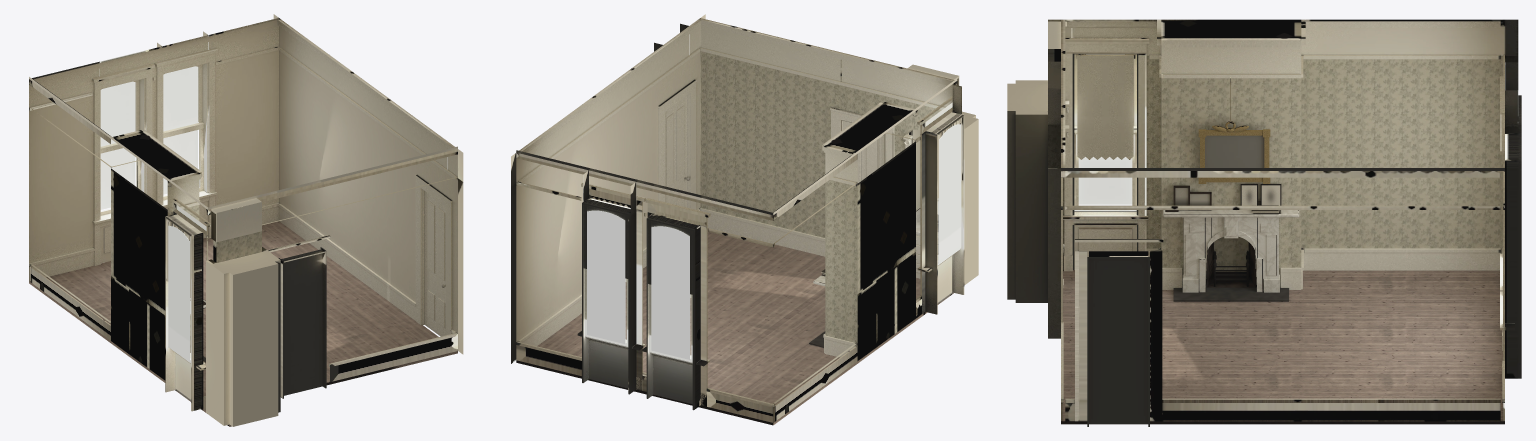
The model's file is muir-martinez-study.glb.
3 renders of one model, left to right at view 1: azimuth 30°, elevation 25°; view 2: azimuth 150°, elevation 25°; view 3: azimuth 270°, elevation 25°, orthographic. The views are drawn at different scales.
Parts seen in each view (by area): view 1: wall_east, wall_north, mouldings, artifact_washstand_alcove, chimney_breast, floor, artifact_north_windows, artifact_door_south, door_east, artifact_west_window, daylight_north_window_0, daylight_north_window_1 (+3 smaller); view 2: wall_south, wall_east, floor, chimney_breast, mouldings, artifact_north_windows, artifact_west_window, daylight_north_window_0, daylight_north_window_1, door_east, artifact_washstand_alcove, daylight_west_window (+2 smaller); view 3: wall_west, floor, mouldings, chimney_breast, door_east, artifact_washstand_alcove, artifact_west_window, artifact_west_window_shade, artifact_fireplace, artifact_north_windows, artifact_overmantel_mirror, artifact_door_south (+8 smaller).
Boxes of the visible parts, bbox=[...] form: wall_east: bbox=[273, 14, 463, 354]; wall_north: bbox=[29, 18, 278, 263]; mouldings: bbox=[29, 19, 457, 381]; artifact_washstand_alcove: bbox=[206, 247, 280, 426]; chimney_breast: bbox=[111, 131, 199, 380]; floor: bbox=[29, 221, 457, 426]; artifact_north_windows: bbox=[92, 48, 217, 265]; artifact_door_south: bbox=[267, 235, 330, 398]; door_east: bbox=[414, 174, 452, 336]; artifact_west_window: bbox=[165, 198, 210, 411]; daylight_north_window_0: bbox=[100, 81, 135, 209]; daylight_north_window_1: bbox=[163, 66, 197, 194]; wall_south: bbox=[700, 25, 959, 237]; wall_east: bbox=[511, 14, 705, 363]; floor: bbox=[516, 228, 953, 425]; chimney_breast: bbox=[825, 103, 915, 360]; mouldings: bbox=[516, 18, 957, 422]; artifact_north_windows: bbox=[577, 182, 710, 410]; artifact_west_window: bbox=[917, 96, 964, 314]; daylight_north_window_0: bbox=[651, 226, 690, 359]; daylight_north_window_1: bbox=[587, 210, 625, 344]; door_east: bbox=[658, 79, 696, 209]; artifact_washstand_alcove: bbox=[903, 111, 978, 285]; daylight_west_window: bbox=[938, 124, 961, 263]; wall_west: bbox=[1048, 19, 1518, 269]; floor: bbox=[1061, 270, 1504, 424]; mouldings: bbox=[1061, 19, 1504, 421]; chimney_breast: bbox=[1161, 19, 1301, 287]; door_east: bbox=[1074, 239, 1163, 426]; artifact_washstand_alcove: bbox=[1007, 80, 1069, 302]; artifact_west_window: bbox=[1063, 38, 1149, 271]; artifact_west_window_shade: bbox=[1076, 54, 1135, 159]; artifact_fireplace: bbox=[1163, 210, 1299, 292]; artifact_north_windows: bbox=[1500, 76, 1521, 381]; artifact_overmantel_mirror: bbox=[1198, 77, 1270, 183]; artifact_door_south: bbox=[1048, 168, 1064, 338].
Bounding box in the file's own units: 4.7 × 3.43 × 6.23.
Materials: 7 (7 with a texture image).
